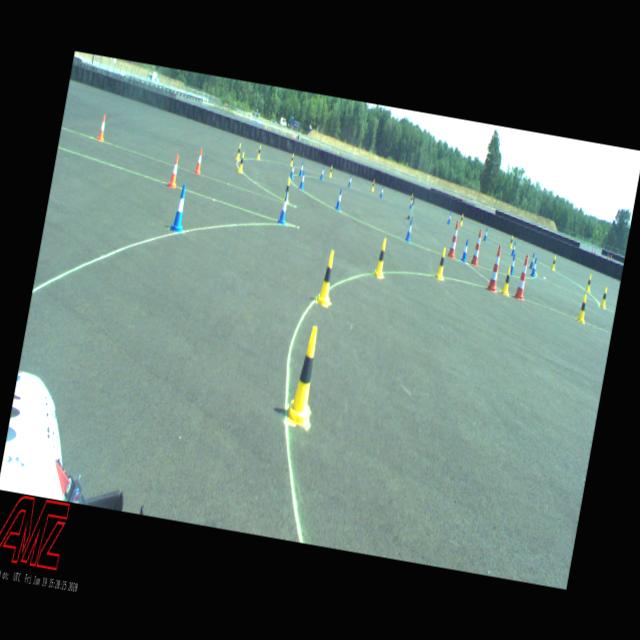blue_cone: (171, 184, 190, 232), (277, 192, 290, 225), (460, 237, 470, 262), (404, 218, 414, 242), (508, 251, 517, 275), (335, 188, 343, 209), (298, 170, 306, 188), (288, 162, 296, 180), (530, 257, 537, 277), (529, 252, 536, 268), (510, 241, 516, 258), (298, 160, 304, 176), (482, 226, 488, 242), (346, 174, 352, 187), (446, 212, 452, 224), (408, 196, 414, 208), (319, 165, 324, 179), (379, 186, 384, 197)
large_orange_cone: (485, 244, 503, 292), (513, 254, 531, 301), (469, 228, 484, 265), (446, 220, 460, 259)
orange_cone: (166, 153, 181, 189), (96, 113, 108, 141), (193, 148, 205, 175)
yellow_cone: (284, 324, 326, 421), (315, 250, 339, 306), (373, 236, 390, 278), (432, 245, 448, 281), (576, 294, 590, 322), (500, 266, 512, 296), (282, 178, 292, 204), (237, 151, 246, 173), (599, 286, 608, 306), (584, 274, 592, 291), (234, 143, 242, 160), (550, 254, 557, 270), (256, 145, 262, 159), (508, 234, 514, 248), (370, 178, 376, 191), (458, 212, 464, 225), (289, 152, 294, 166), (409, 192, 414, 205), (328, 165, 332, 176)
